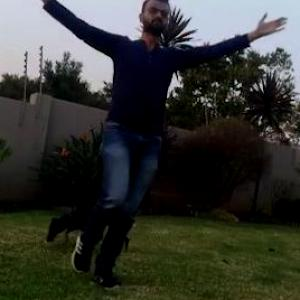takeoff: (27, 0, 283, 271)
